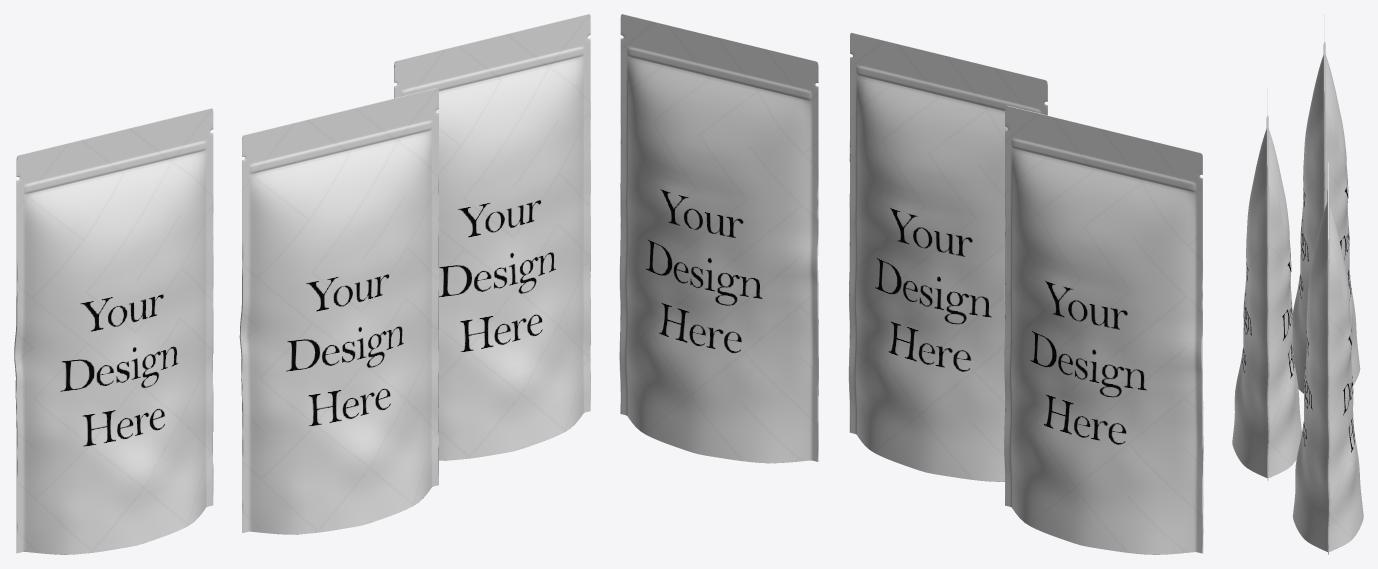
File: Zip Angle-4.glb
3 renders of one model, left to right at view 1: azimuth 30°, elevation 25°; view 2: azimuth 150°, elevation 25°; view 3: azimuth 270°, elevation 25°, orthographic. The views are drawn at different scales.
Visible parts, largest first — view 1: ATR001_Doypack_0, ATR001_Doypack_0.001, ATR001_Doypack_0.002; view 2: ATR001_Doypack_0.002, ATR001_Doypack_0, ATR001_Doypack_0.001; view 3: ATR001_Doypack_0.002, ATR001_Doypack_0.001, ATR001_Doypack_0.
Boxes of the visible parts, x1,y1,x2,y2 form: ATR001_Doypack_0: (14, 108, 213, 554); ATR001_Doypack_0.001: (239, 88, 438, 534); ATR001_Doypack_0.002: (394, 14, 590, 460); ATR001_Doypack_0.002: (619, 14, 818, 463); ATR001_Doypack_0: (1004, 105, 1203, 554); ATR001_Doypack_0.001: (848, 32, 1047, 481); ATR001_Doypack_0.002: (1292, 162, 1363, 554); ATR001_Doypack_0.001: (1232, 88, 1301, 480); ATR001_Doypack_0: (1292, 14, 1360, 393).
Size of the model in its own units: 0.4717 by 0.3102 by 0.1167.
Materials: 1 (1 with a texture image).
